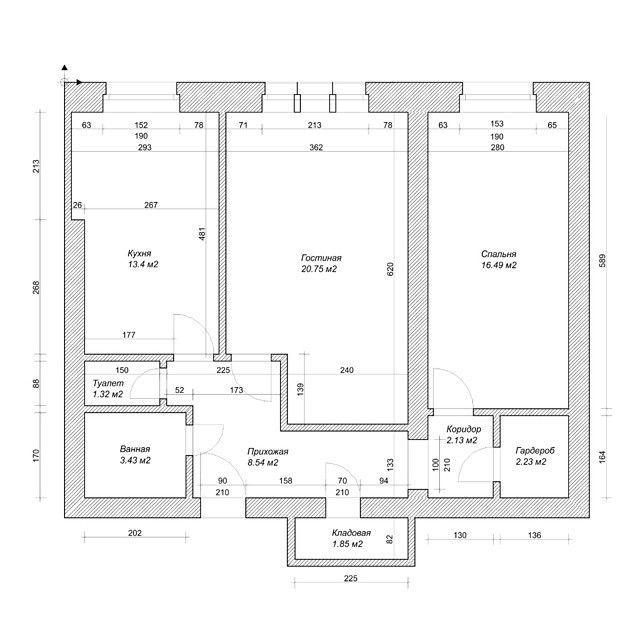bathroom: (85, 413, 185, 496)
bedroom: (427, 113, 568, 410)
hallway: (165, 362, 495, 499)
kitchen: (71, 113, 220, 355)
living_room: (226, 112, 408, 424)
toilet: (85, 362, 159, 406)
utility_room: (295, 518, 408, 560)
walk_in_closet: (501, 415, 568, 498)
